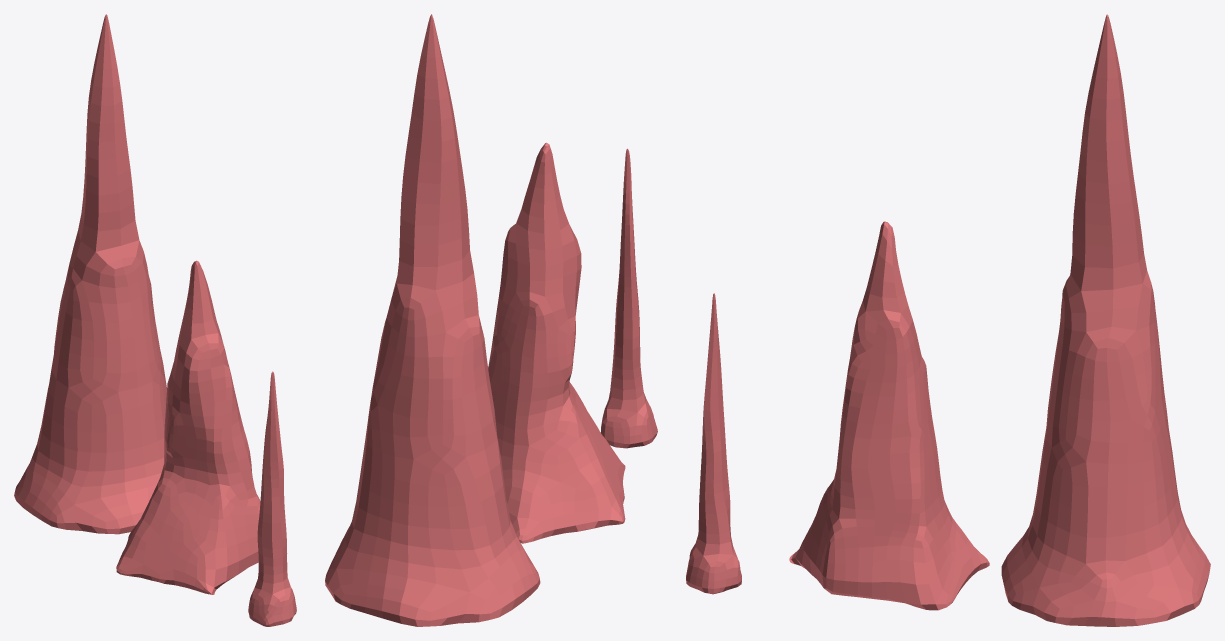
File: 06-StalagmitePointy.fbx
3 renders of one model, left to right at view 1: azimuth 30°, elevation 25°; view 2: azimuth 150°, elevation 25°; view 3: azimuth 270°, elevation 25°, orthographic. The views are drawn at different scales.
Parts seen in each view (by area): view 1: StalagmitePointyBig, StalagmitePointyMedium, StalagmitePointySmall; view 2: StalagmitePointyBig, StalagmitePointyMedium, StalagmitePointySmall; view 3: StalagmitePointyBig, StalagmitePointyMedium, StalagmitePointySmall.
Boxes of the visible parts, box(x1,y1,x2,y2) form: StalagmitePointyBig: box(14, 14, 166, 534); StalagmitePointyMedium: box(116, 260, 260, 594); StalagmitePointySmall: box(248, 371, 296, 626); StalagmitePointyBig: box(325, 14, 540, 626); StalagmitePointyMedium: box(488, 142, 625, 543); StalagmitePointySmall: box(600, 148, 657, 448); StalagmitePointyBig: box(1001, 14, 1210, 626); StalagmitePointyMedium: box(789, 221, 989, 610); StalagmitePointySmall: box(686, 293, 741, 594).
Bounding box in the file's own units: 159 × 477 × 396.
